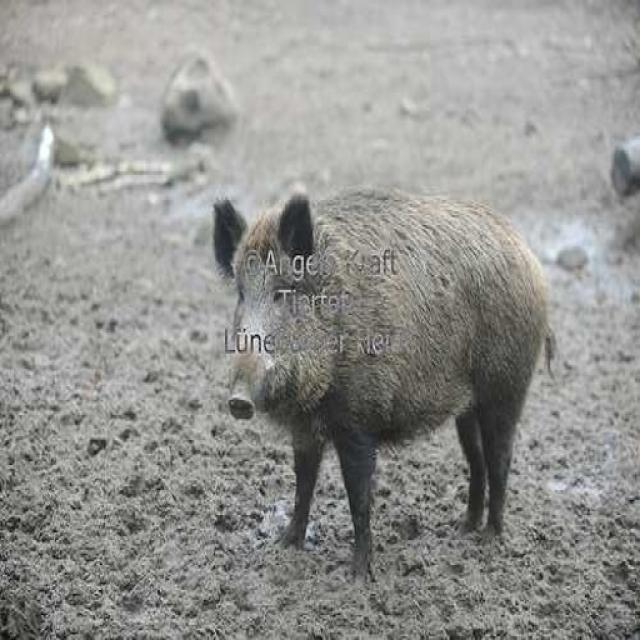pig: (164, 140, 625, 553)
